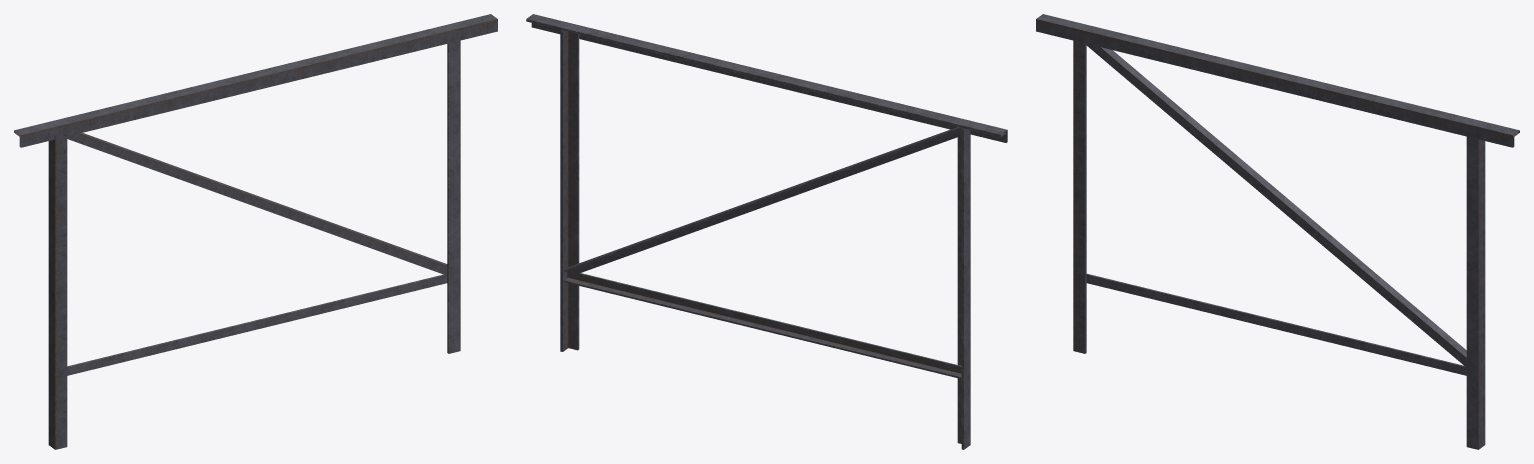
The model's file is SM_Railing_B.fbx.
3 renders of one model, left to right at view 1: azimuth 30°, elevation 25°; view 2: azimuth 150°, elevation 25°; view 3: azimuth 330°, elevation 25°, orthographic.
Visible parts, largest first — view 1: SM_Railing_B; view 2: SM_Railing_B; view 3: SM_Railing_B.
Part boxes in pixels (left/top/right/bottom): SM_Railing_B: left=14, top=14, right=497, bottom=449; SM_Railing_B: left=526, top=14, right=1007, bottom=449; SM_Railing_B: left=1036, top=14, right=1519, bottom=449.
Size of the model in its own units: 200 by 130 by 6.
